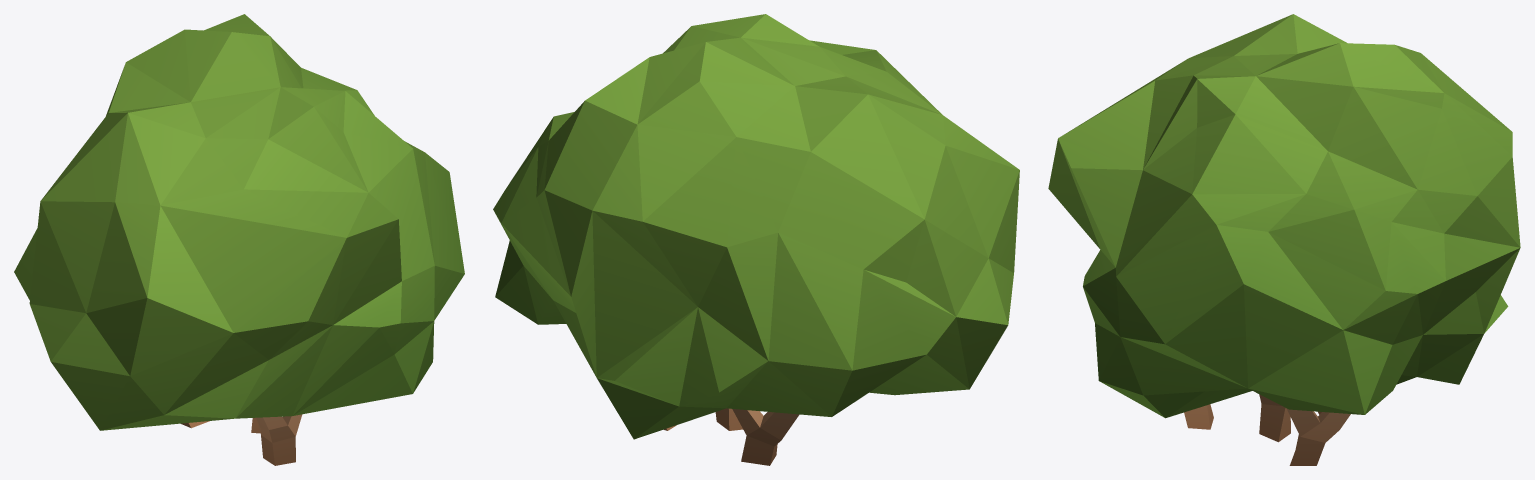
File: Bushes 3_Shiqi.glb
3 views of the same model, side by side, from view 1: azimuth 30°, elevation 25°; view 2: azimuth 150°, elevation 25°; view 3: azimuth 270°, elevation 25° (orthographic). The views are drawn at different scales.
Parts seen in each view (by area): view 1: Bush_average; view 2: Bush_average; view 3: Bush_average.
Part boxes in pixels (x1,y1,x2,y2): Bush_average: [14, 14, 464, 465]; Bush_average: [493, 14, 1019, 465]; Bush_average: [1048, 14, 1520, 465].
Size of the model in its own units: 4.68 by 4.08 by 4.48.
Materials: 1 (1 with a texture image).
